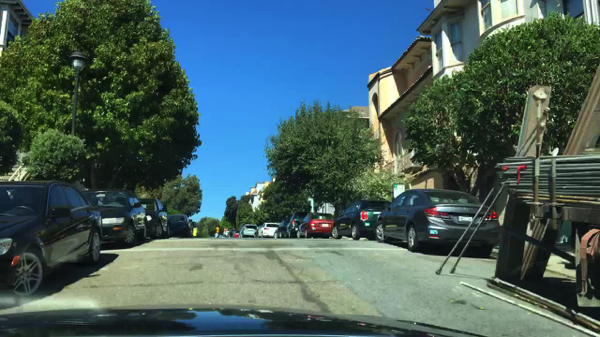car: (0, 179, 101, 300), (375, 189, 499, 257), (85, 189, 148, 245), (330, 200, 390, 239), (139, 198, 169, 238), (296, 213, 335, 239), (286, 212, 307, 238), (168, 215, 192, 237), (258, 222, 278, 238), (273, 220, 289, 239), (240, 224, 257, 238), (213, 232, 230, 238), (232, 231, 240, 237)
person: (192, 226, 198, 237)
traffic sign: (394, 184, 405, 198), (215, 227, 220, 234), (223, 228, 228, 233)
